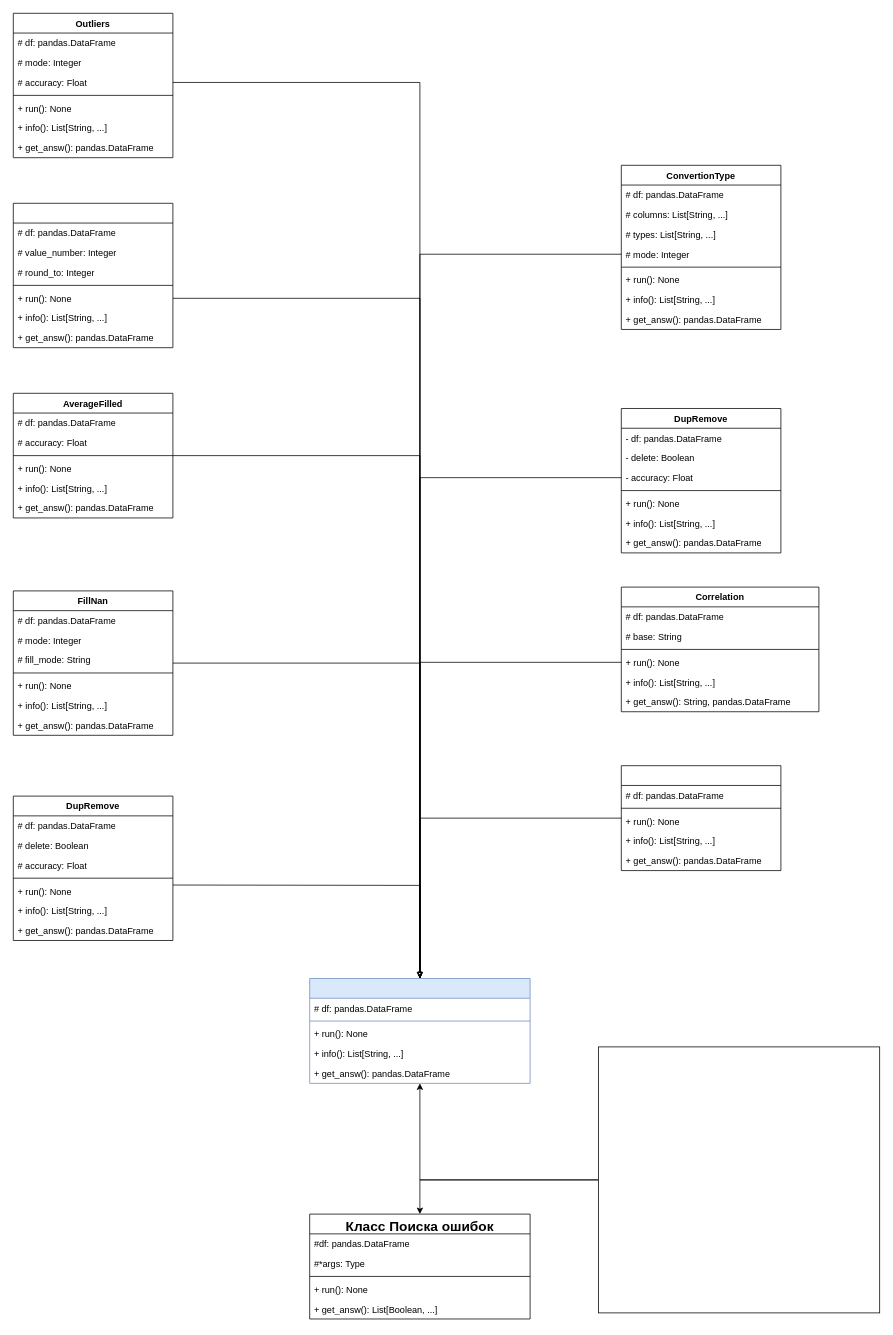
Some shapes in this 893 by 1335 pixel diagram are drawn without their labels. Each missing label, with the box of its shape:
Class DataProcessing: (309, 978, 530, 1083)
Error: (621, 765, 781, 871)
ValueDiscretization: (13, 203, 173, 348)
«interface» ICheck: (598, 1046, 880, 1313)
